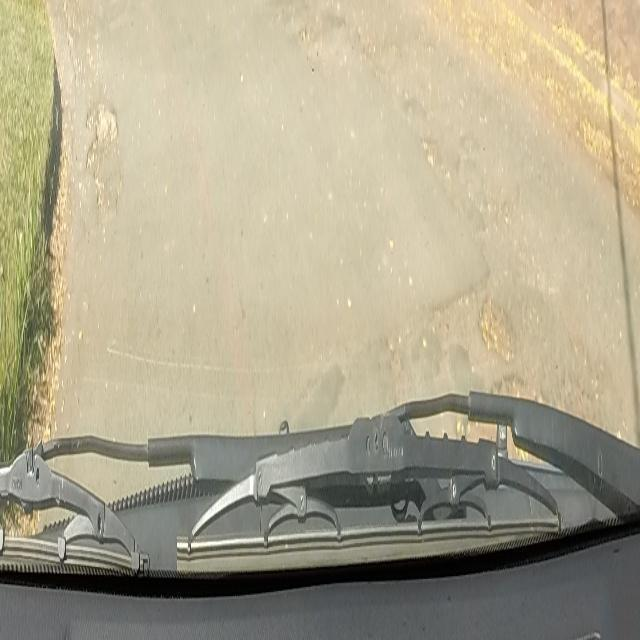pothole: (84, 96, 118, 208), (478, 285, 514, 358), (478, 287, 516, 356)
